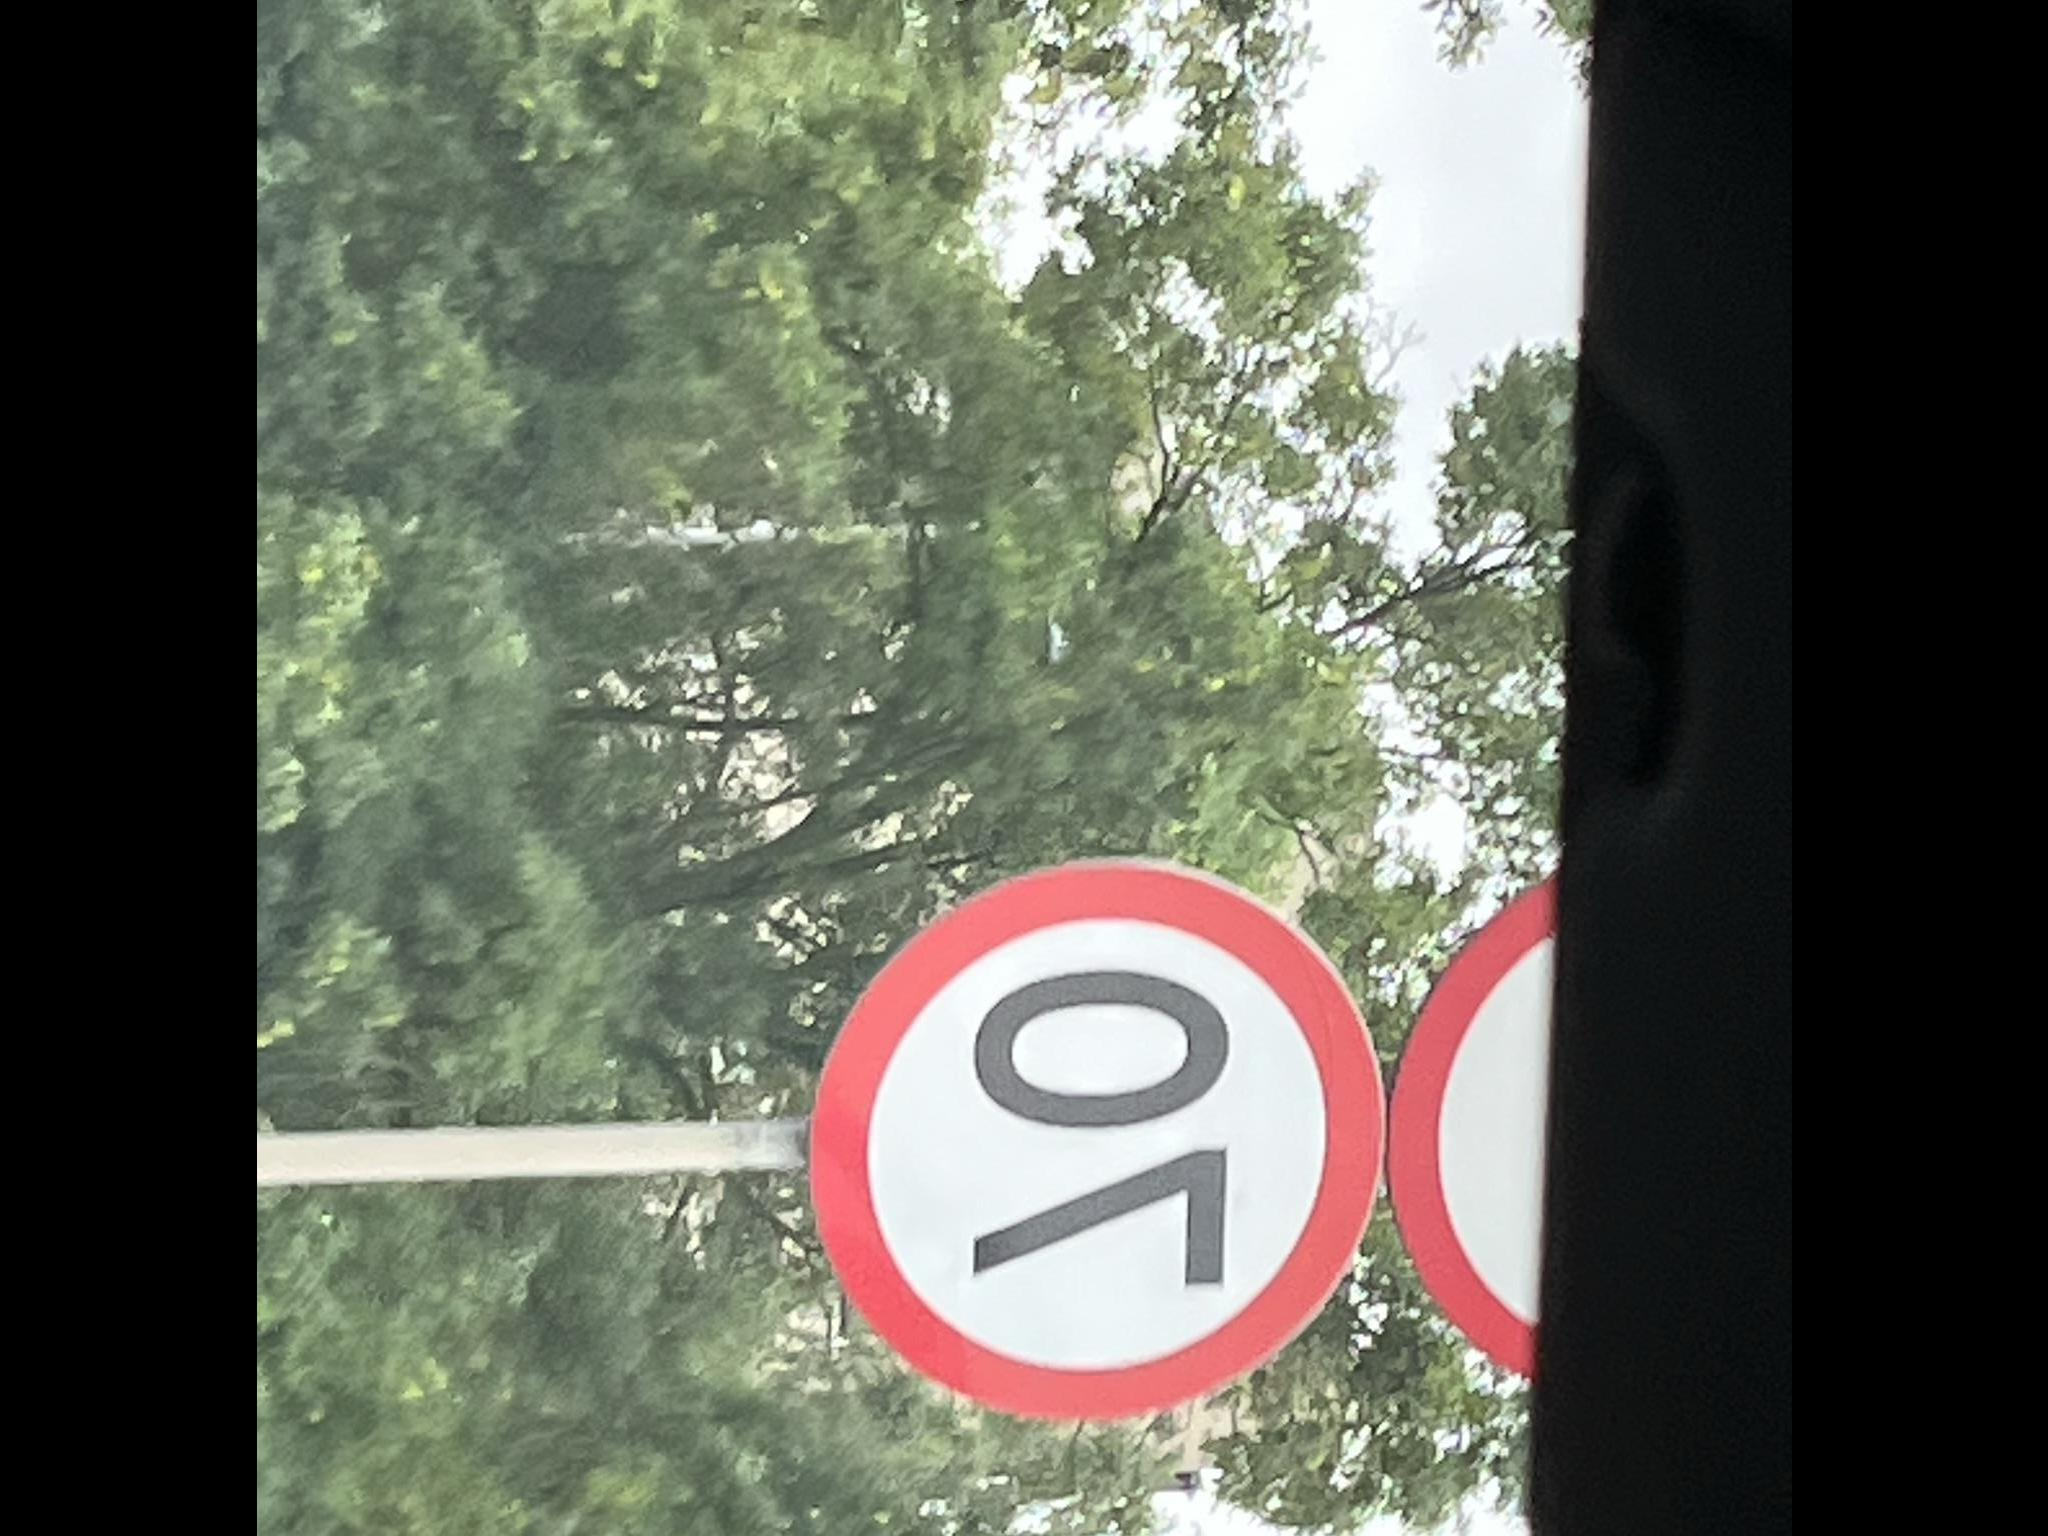prohibitory: (800, 852, 1388, 1425), (1382, 862, 1551, 1375)
